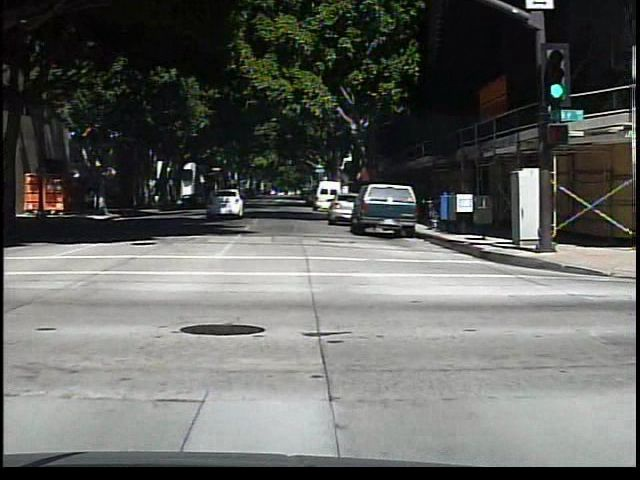person: (83, 182, 100, 217)
